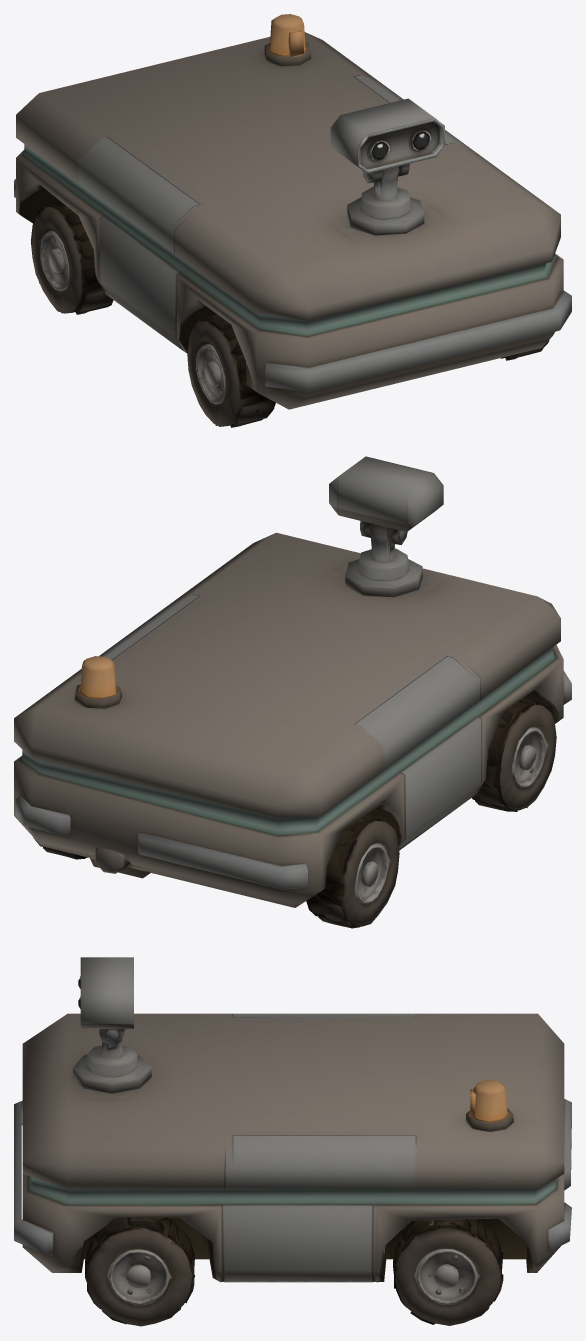
The model's file is teal-stripe-scout-rover.glb.
3 views of the same model, one above another, from view 1: azimuth 30°, elevation 25°; view 2: azimuth 150°, elevation 25°; view 3: azimuth 270°, elevation 25° (orthographic).
Parts seen in each view (by area): view 1: Teal Stripe Scout Rover; view 2: Teal Stripe Scout Rover; view 3: Teal Stripe Scout Rover.
Boxes of the visible parts, left/top/right/bottom form: Teal Stripe Scout Rover: left=14, top=14, right=571, bottom=427; Teal Stripe Scout Rover: left=14, top=456, right=571, bottom=928; Teal Stripe Scout Rover: left=14, top=957, right=571, bottom=1326.
Bounding box in the file's own units: 0.6582 × 0.5527 × 0.998.
1 material, 1 textured.
